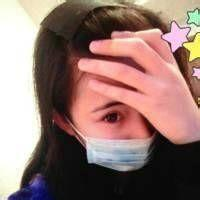yes_mask: (30, 1, 174, 173)
